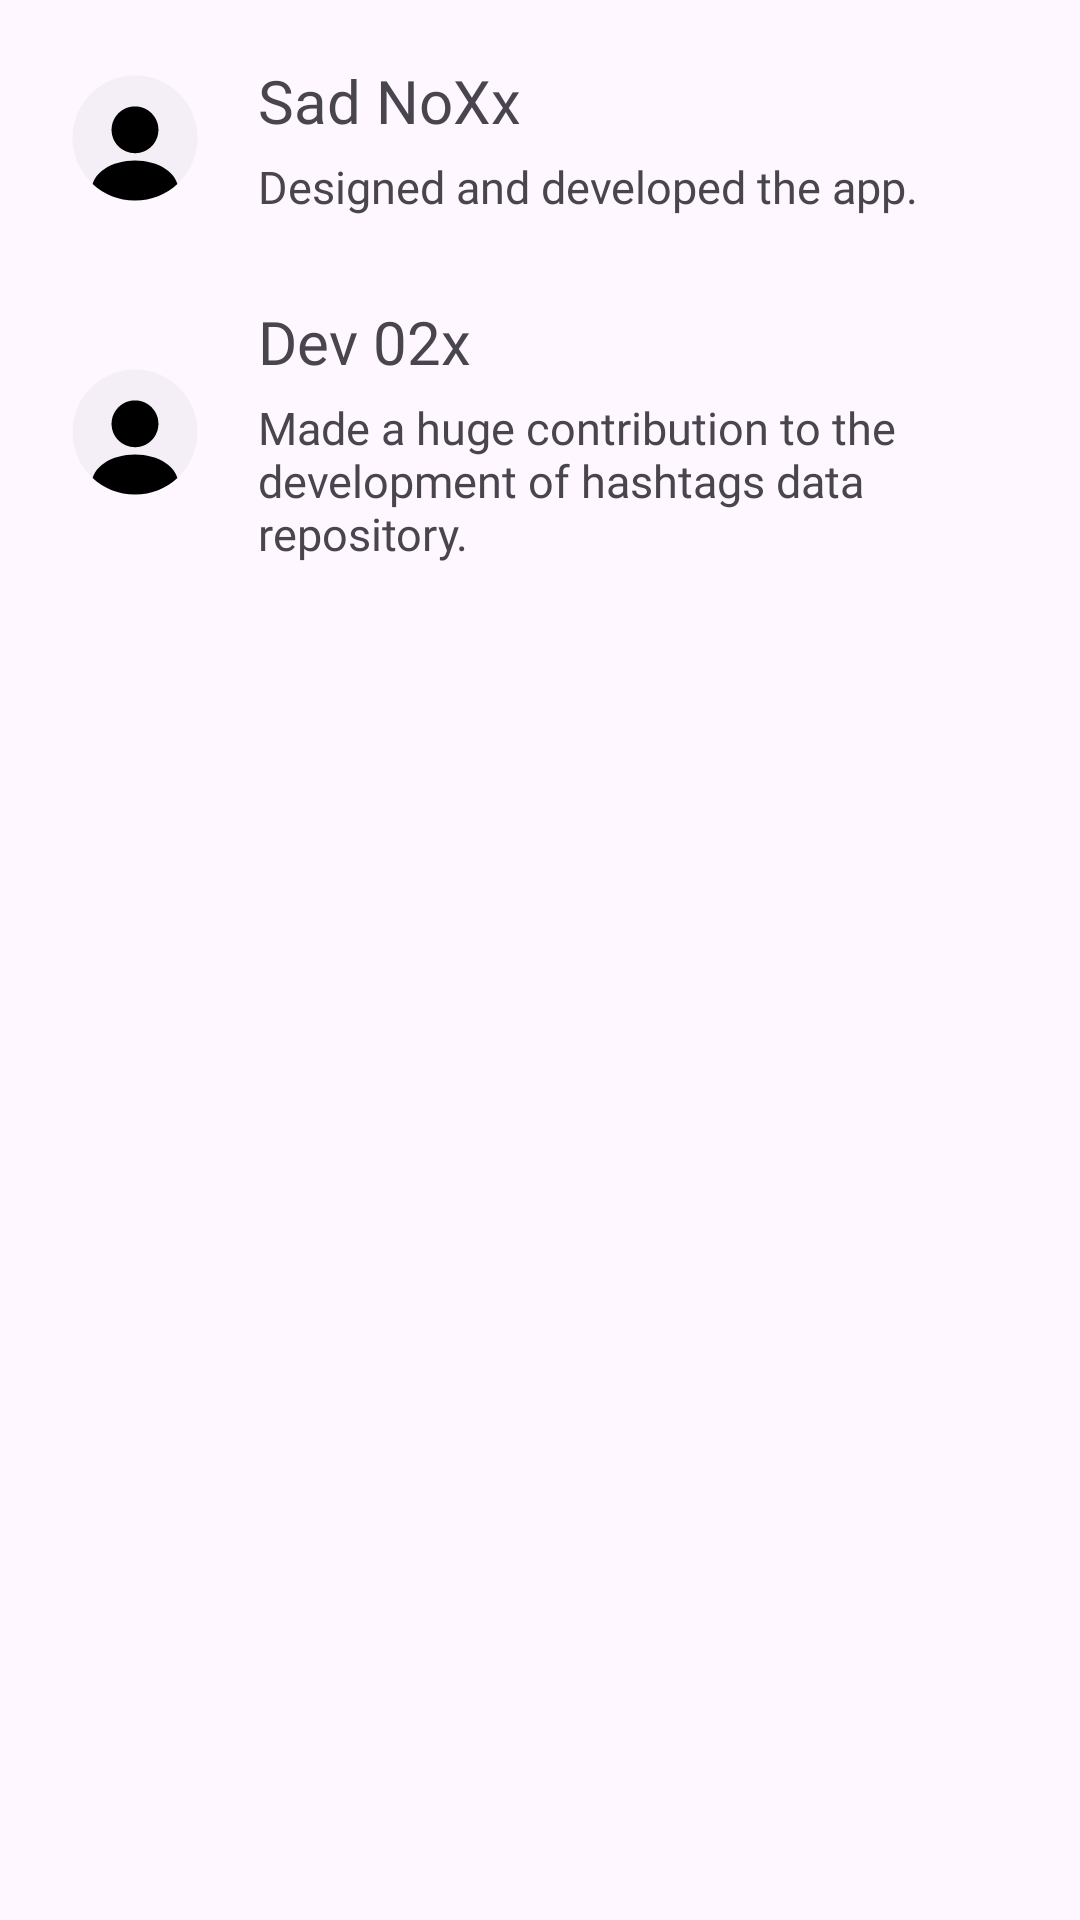

Icons on this 1080*1920 Android screen, each with its box as Rect(x1, y1, x2, y2):
profile: Rect(92, 106, 178, 201), Rect(92, 400, 178, 495)
